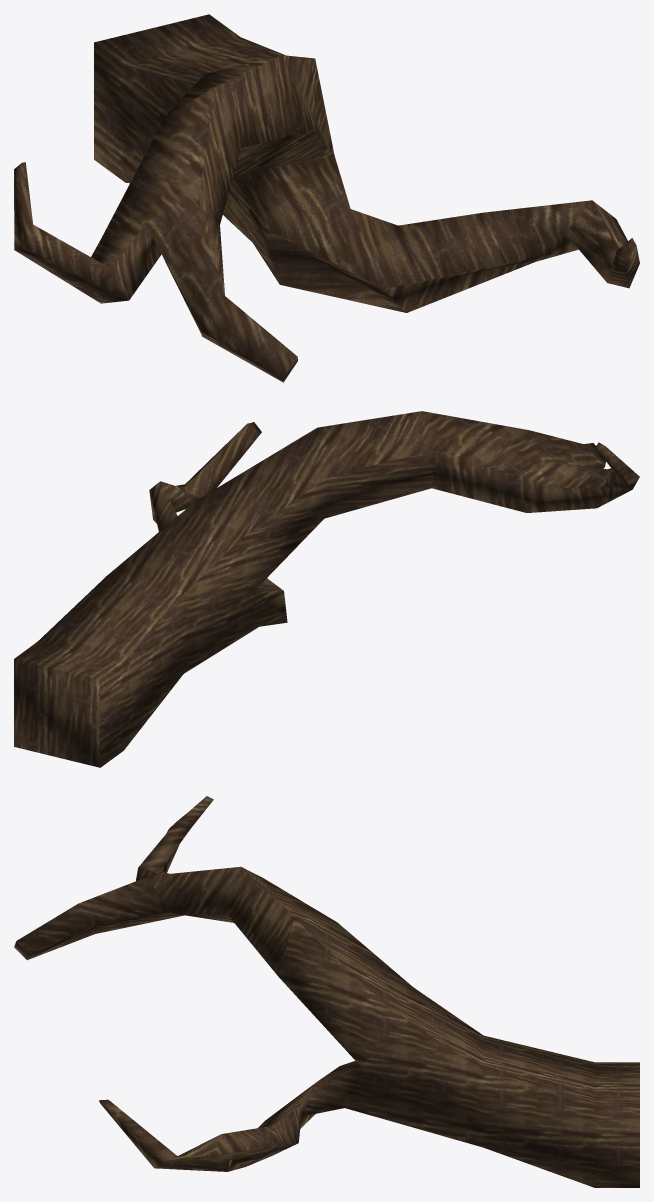
Rendered from Test_branches.FBX.
3 renders of one model, top to bottom at view 1: azimuth 30°, elevation 25°; view 2: azimuth 150°, elevation 25°; view 3: azimuth 270°, elevation 25°, orthographic. The views are drawn at different scales.
Parts seen in each view (by area): view 1: Box001; view 2: Box001; view 3: Box001.
Boxes of the visible parts, x1,y1,x2,y2 form: Box001: (14,14,639,382); Box001: (14,411,639,767); Box001: (14,796,639,1187).
Size of the model in its own units: 101 by 48.39 by 121.
